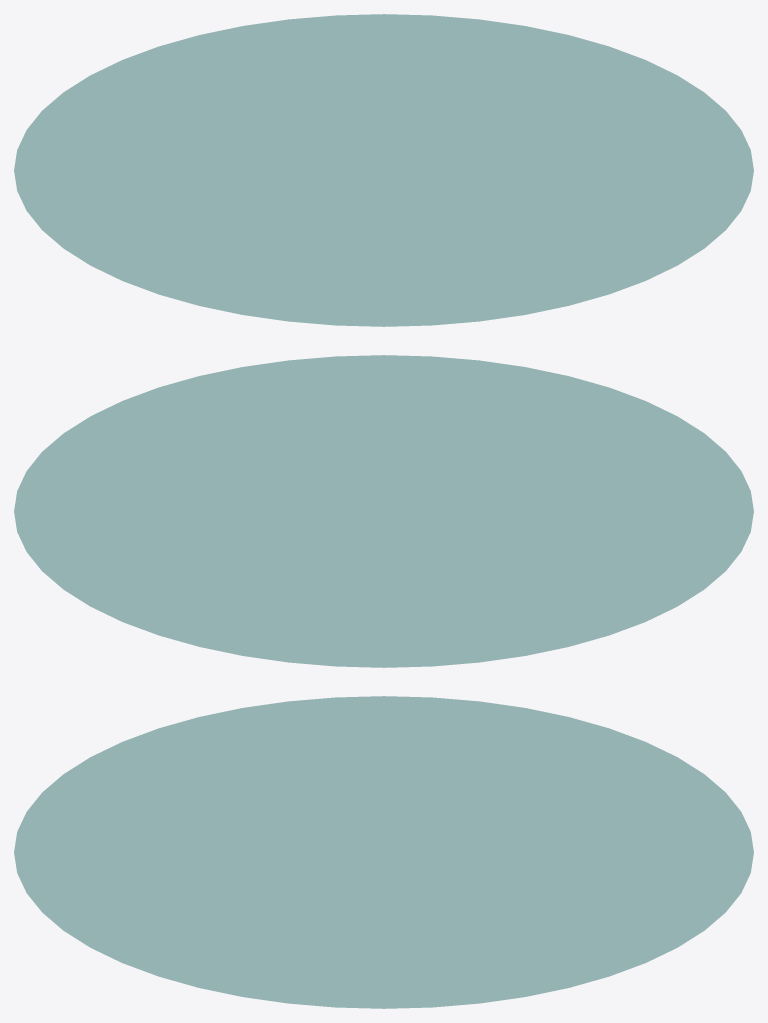
Rendered from reference-ocean-layer.glb.
3 views of the same model, one above another, from view 1: azimuth 30°, elevation 25°; view 2: azimuth 150°, elevation 25°; view 3: azimuth 270°, elevation 25° (orthographic).
Visible parts, largest first — view 1: Plane.013; view 2: Plane.013; view 3: Plane.013.
Boxes of the visible parts, x1,y1,x2,y2 form: Plane.013: [14, 14, 753, 326]; Plane.013: [14, 355, 753, 667]; Plane.013: [14, 696, 753, 1008].
Bounding box in the file's own units: 1 × 0 × 1.
